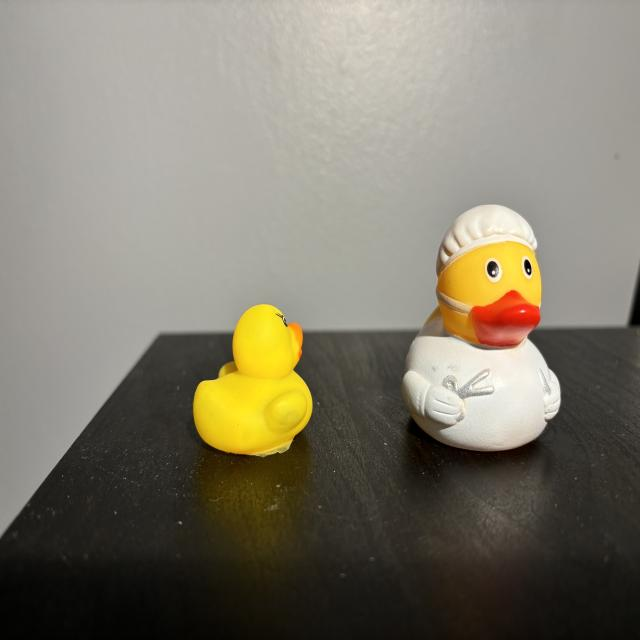duck_regular: (194, 305, 313, 457)
duck_specialty: (403, 205, 561, 451)
